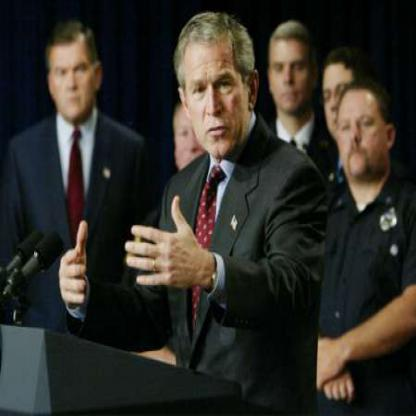face: (183, 25, 248, 158), (338, 85, 389, 183), (49, 31, 95, 120), (269, 28, 311, 114), (323, 56, 363, 142), (173, 100, 214, 179)
